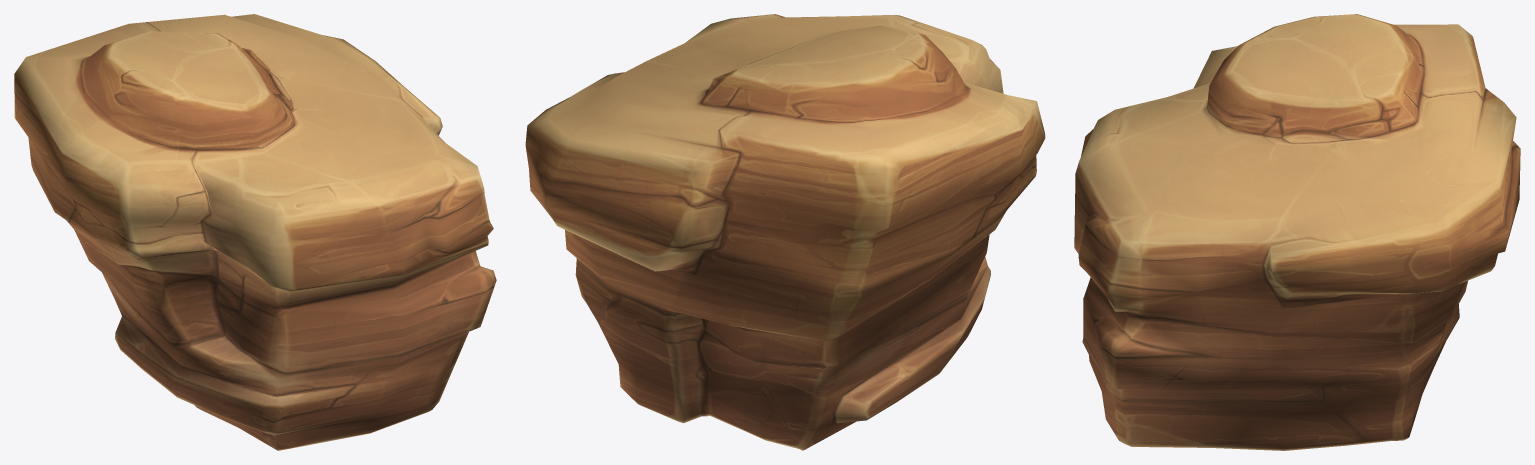
The model's file is DE_Rock_02.fbx.
The picture shows the model from 3 angles, left to right: view 1: azimuth 30°, elevation 25°; view 2: azimuth 150°, elevation 25°; view 3: azimuth 270°, elevation 25°; orthographic projection. The views are drawn at different scales.
Visible parts, largest first — view 1: DE_Rock_02; view 2: DE_Rock_02; view 3: DE_Rock_02.
Part boxes in pixels (bbox=[...]): DE_Rock_02: bbox=[14, 14, 496, 450]; DE_Rock_02: bbox=[525, 14, 1045, 450]; DE_Rock_02: bbox=[1074, 14, 1520, 450].
Size of the model in its own units: 15.17 by 13.02 by 15.44.
